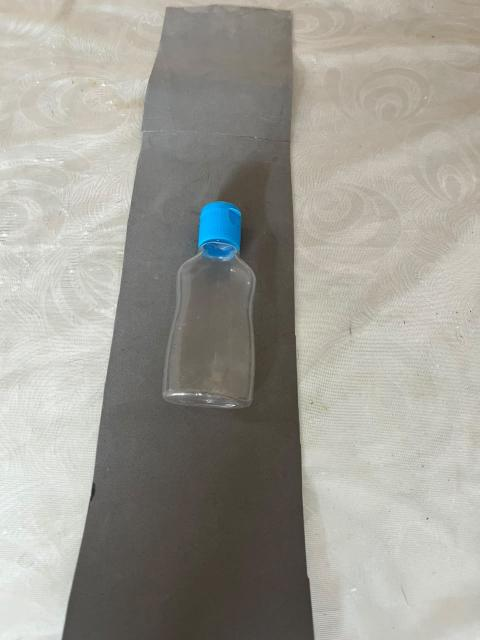PET: (140, 175, 307, 469)
